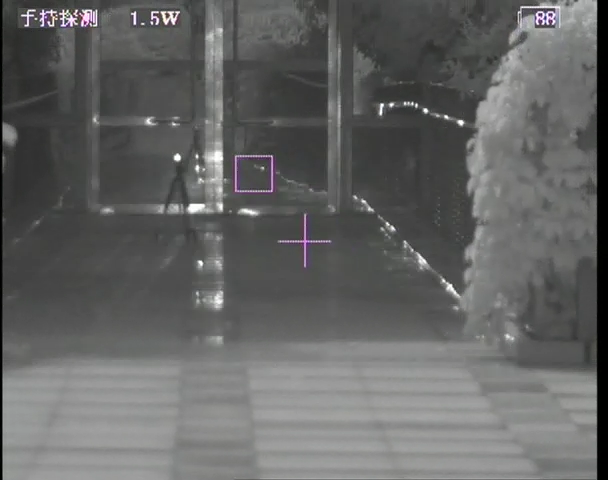my: (171, 152, 183, 164)
